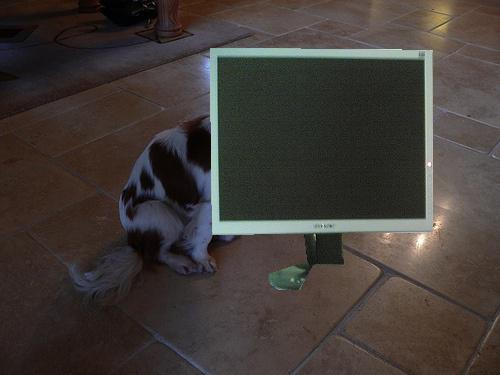tampered: (211, 49, 433, 290)
